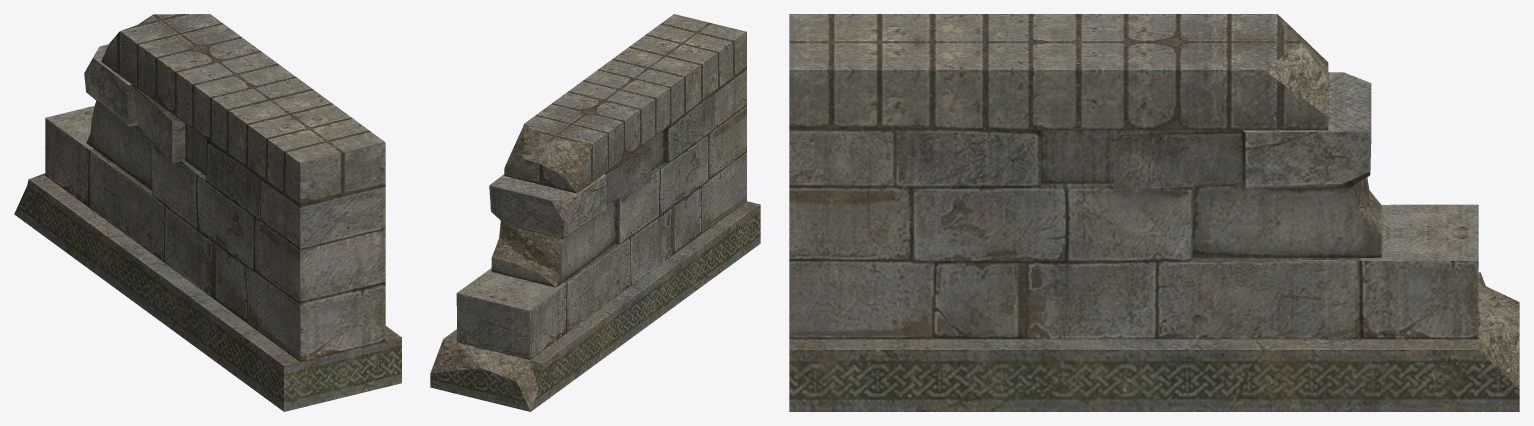
The model's file is bg_lut_lutomb_wall06a_sm_old.FBX.
3 views of the same model, side by side, from view 1: azimuth 30°, elevation 25°; view 2: azimuth 150°, elevation 25°; view 3: azimuth 270°, elevation 25° (orthographic). The views are drawn at different scales.
Visible parts, largest first — view 1: bg_lut_lutomb_wall06a_sm_old; view 2: bg_lut_lutomb_wall06a_sm_old; view 3: bg_lut_lutomb_wall06a_sm_old.
Part boxes in pixels (left/top/right/bottom): bg_lut_lutomb_wall06a_sm_old: left=14, top=14, right=401, bottom=411; bg_lut_lutomb_wall06a_sm_old: left=430, top=14, right=760, bottom=411; bg_lut_lutomb_wall06a_sm_old: left=789, top=14, right=1519, bottom=411.
Size of the model in its own units: 64.43 by 128 by 256.
